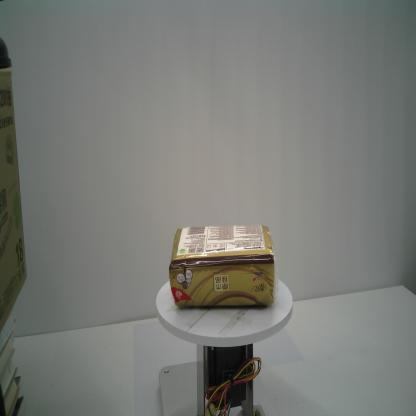Tissue: (169, 224, 277, 308)
